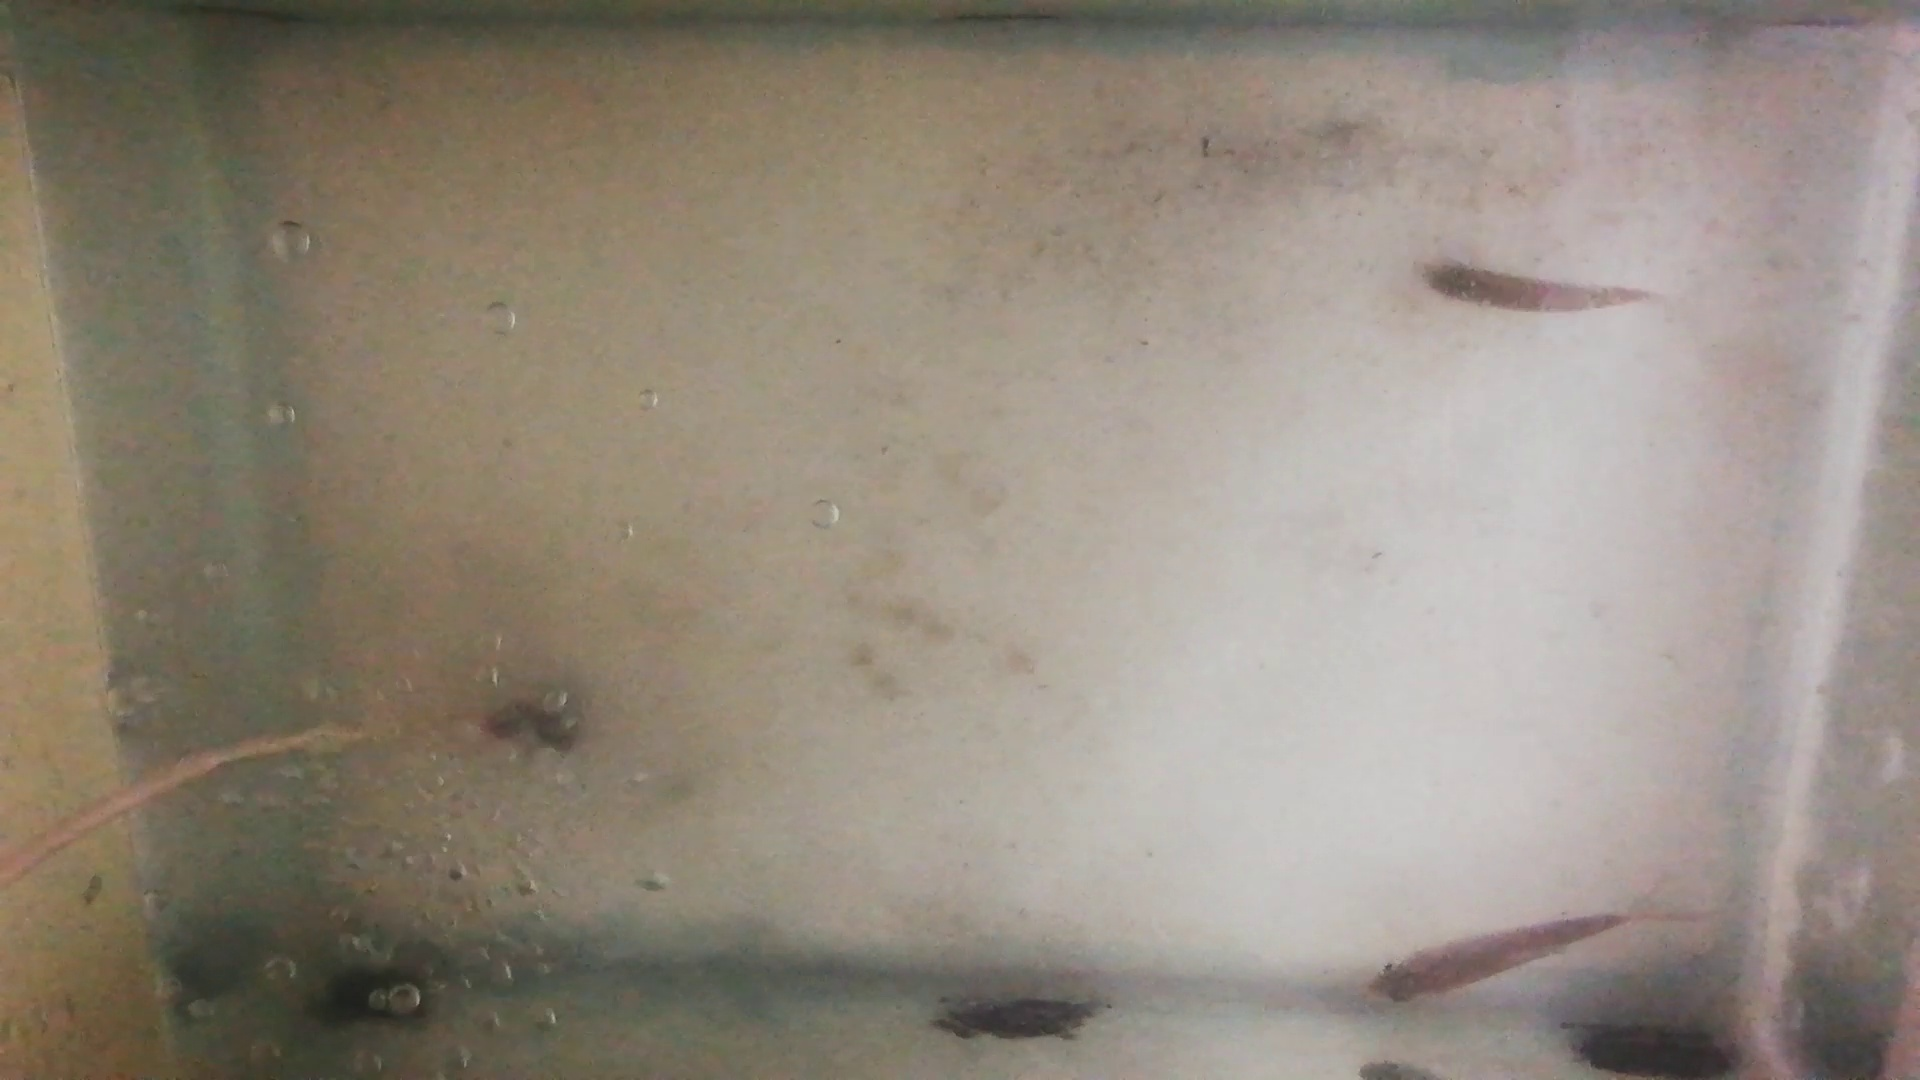fish: (1367, 911, 1633, 1004), (1418, 258, 1648, 315)
